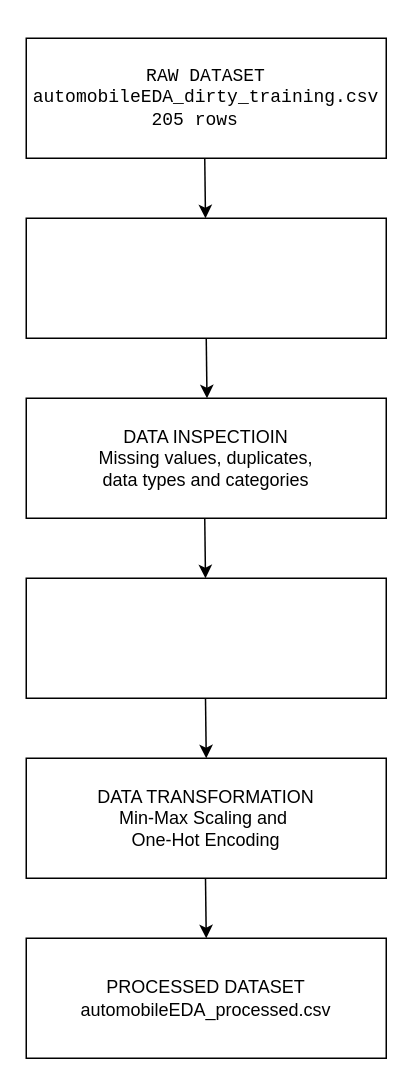
This 413x1085 diagram has some shape labels left out. The box of each missing label's shape, as (x1, y1, x2, y2) in pixels:
DATA CLEANING Remove duplicates, clean text, handle missing values: (25, 577, 386, 698)
LOAD DATA Read CSV file: (25, 217, 386, 338)
